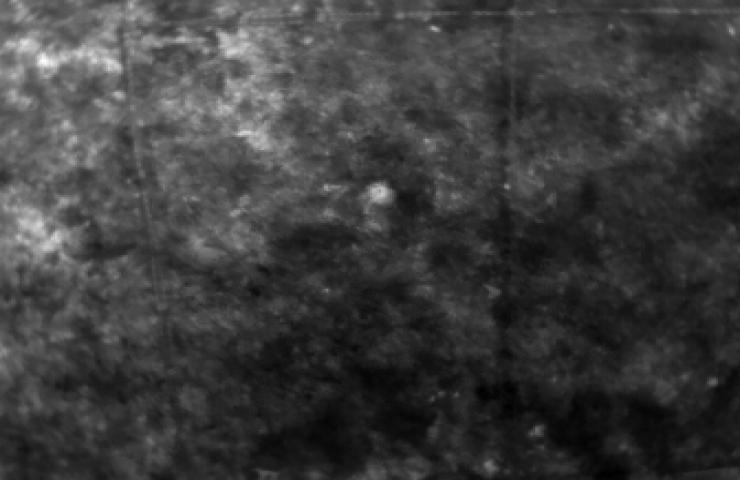landmines: (369, 183, 392, 205)
